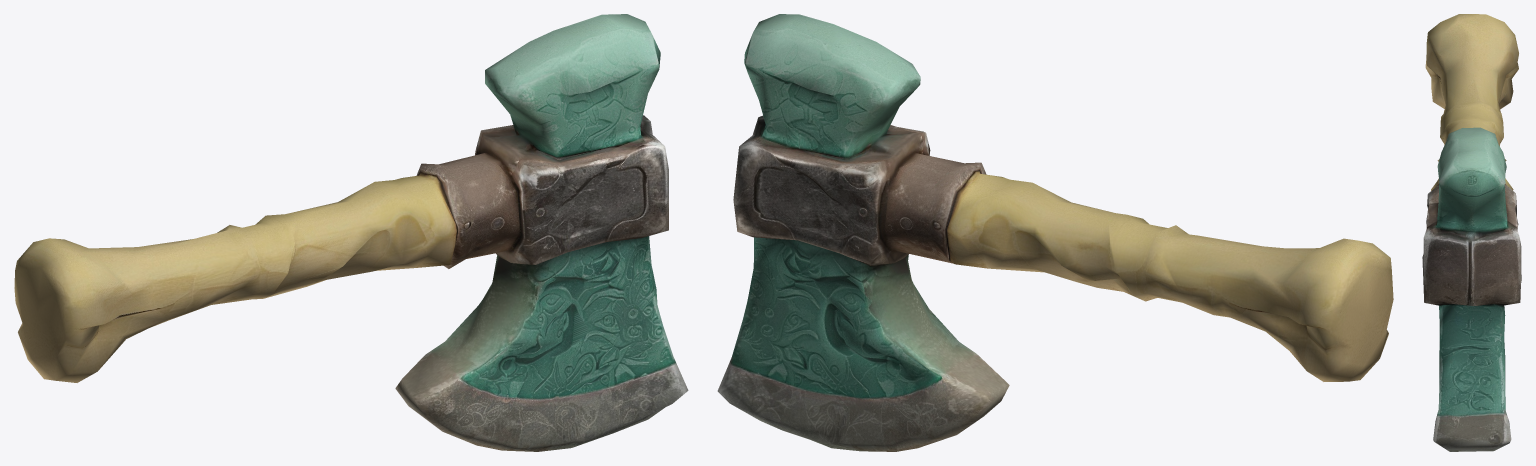
Rendered from weapon_ghost_axe_1500.glb.
3 renders of one model, left to right at view 1: azimuth 30°, elevation 25°; view 2: azimuth 150°, elevation 25°; view 3: azimuth 270°, elevation 25°, orthographic. The views are drawn at different scales.
Visible parts, largest first — view 1: tripo_node_23346c63-0085-4e58-8c4a-492e27c1b5ec; view 2: tripo_node_23346c63-0085-4e58-8c4a-492e27c1b5ec; view 3: tripo_node_23346c63-0085-4e58-8c4a-492e27c1b5ec.
Part boxes in pixels (x1,y1,x2,y2): tripo_node_23346c63-0085-4e58-8c4a-492e27c1b5ec: [14, 14, 688, 451]; tripo_node_23346c63-0085-4e58-8c4a-492e27c1b5ec: [717, 14, 1393, 451]; tripo_node_23346c63-0085-4e58-8c4a-492e27c1b5ec: [1422, 14, 1521, 451].
Size of the model in its own units: 0.9782 by 0.6061 by 0.1792.
1 material, 1 textured.
